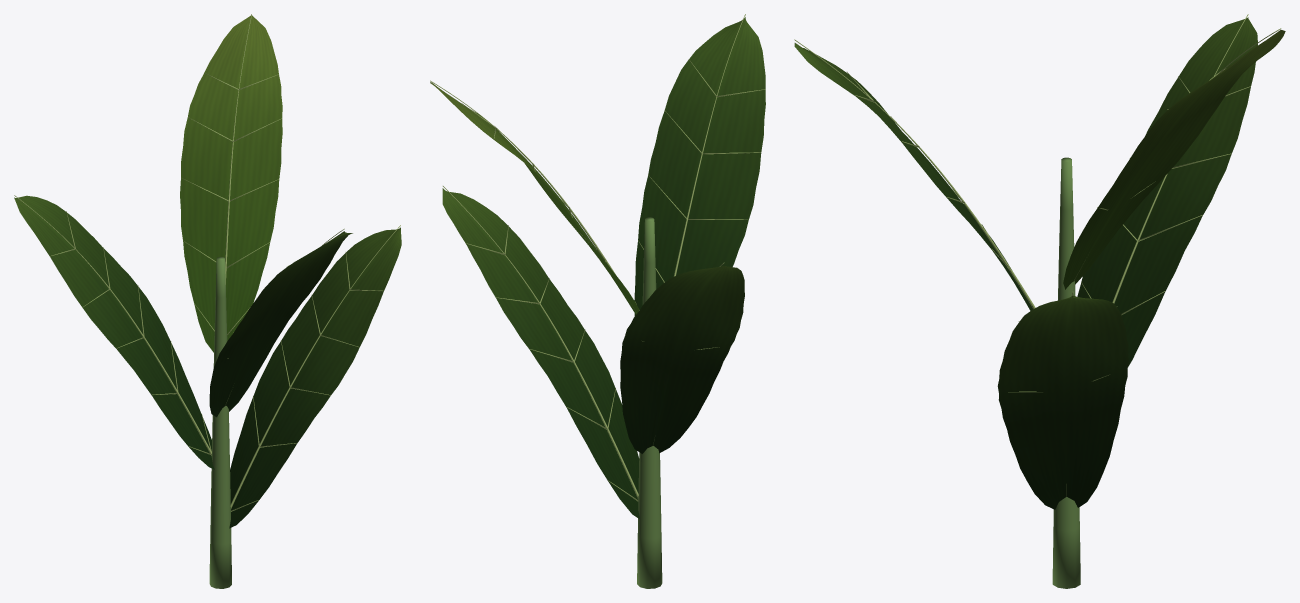
The model's file is tulip-04.glb.
3 views of the same model, side by side, from view 1: azimuth 30°, elevation 25°; view 2: azimuth 150°, elevation 25°; view 3: azimuth 270°, elevation 25° (orthographic). The views are drawn at different scales.
Parts seen in each view (by area): view 1: tulip_stage_04_leaf_veins.006, tulip_stage_04_young_leaf.006, tulip_stage_04_stem_fibres.006, tulip_stage_04_raised_midveins.006; view 2: tulip_stage_04_leaf_veins.006, tulip_stage_04_stem_fibres.006, tulip_stage_04_raised_midveins.006, tulip_stage_04_young_leaf.006; view 3: tulip_stage_04_leaf_veins.006, tulip_stage_04_young_leaf.006, tulip_stage_04_stem_fibres.006, tulip_stage_04_raised_midveins.006.
Boxes of the visible parts, x1,y1,x2,y2 form: tulip_stage_04_leaf_veins.006: [14, 195, 401, 528]; tulip_stage_04_young_leaf.006: [180, 15, 282, 352]; tulip_stage_04_stem_fibres.006: [209, 257, 231, 588]; tulip_stage_04_raised_midveins.006: [14, 14, 400, 511]; tulip_stage_04_leaf_veins.006: [442, 17, 765, 519]; tulip_stage_04_stem_fibres.006: [637, 217, 662, 588]; tulip_stage_04_raised_midveins.006: [430, 14, 765, 501]; tulip_stage_04_young_leaf.006: [430, 82, 639, 314]; tulip_stage_04_leaf_veins.006: [794, 17, 1257, 509]; tulip_stage_04_young_leaf.006: [1063, 30, 1285, 289]; tulip_stage_04_stem_fibres.006: [1052, 157, 1080, 588]; tulip_stage_04_raised_midveins.006: [794, 14, 1281, 496].
Bounding box in the file's own units: 0.1307 × 0.1869 × 0.1329.
Materials: 4 (2 with a texture image).
